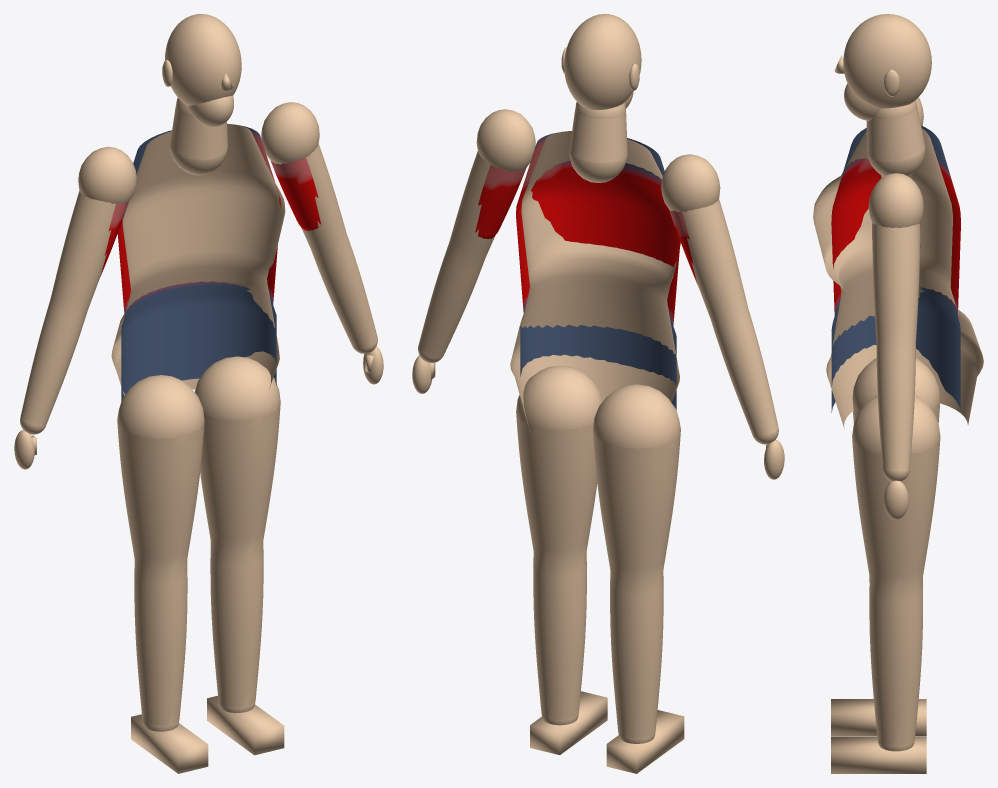
The model's file is tryon_tight.glb.
3 renders of one model, left to right at view 1: azimuth 30°, elevation 25°; view 2: azimuth 150°, elevation 25°; view 3: azimuth 270°, elevation 25°, orthographic.
Parts seen in each view (by area): view 1: body_mesh, garment_mesh; view 2: body_mesh, garment_mesh; view 3: body_mesh, garment_mesh.
Part boxes in pixels (x1=…): body_mesh: x1=14, y1=14, x2=383, y2=773; garment_mesh: x1=100, y1=125, x2=321, y2=401; body_mesh: x1=412, y1=14, x2=784, y2=773; garment_mesh: x1=475, y1=133, x2=697, y2=409; body_mesh: x1=813, y1=14, x2=983, y2=773; garment_mesh: x1=831, y1=126, x2=960, y2=412.
Size of the model in its own units: 0.9794 by 1.85 by 0.3922.
